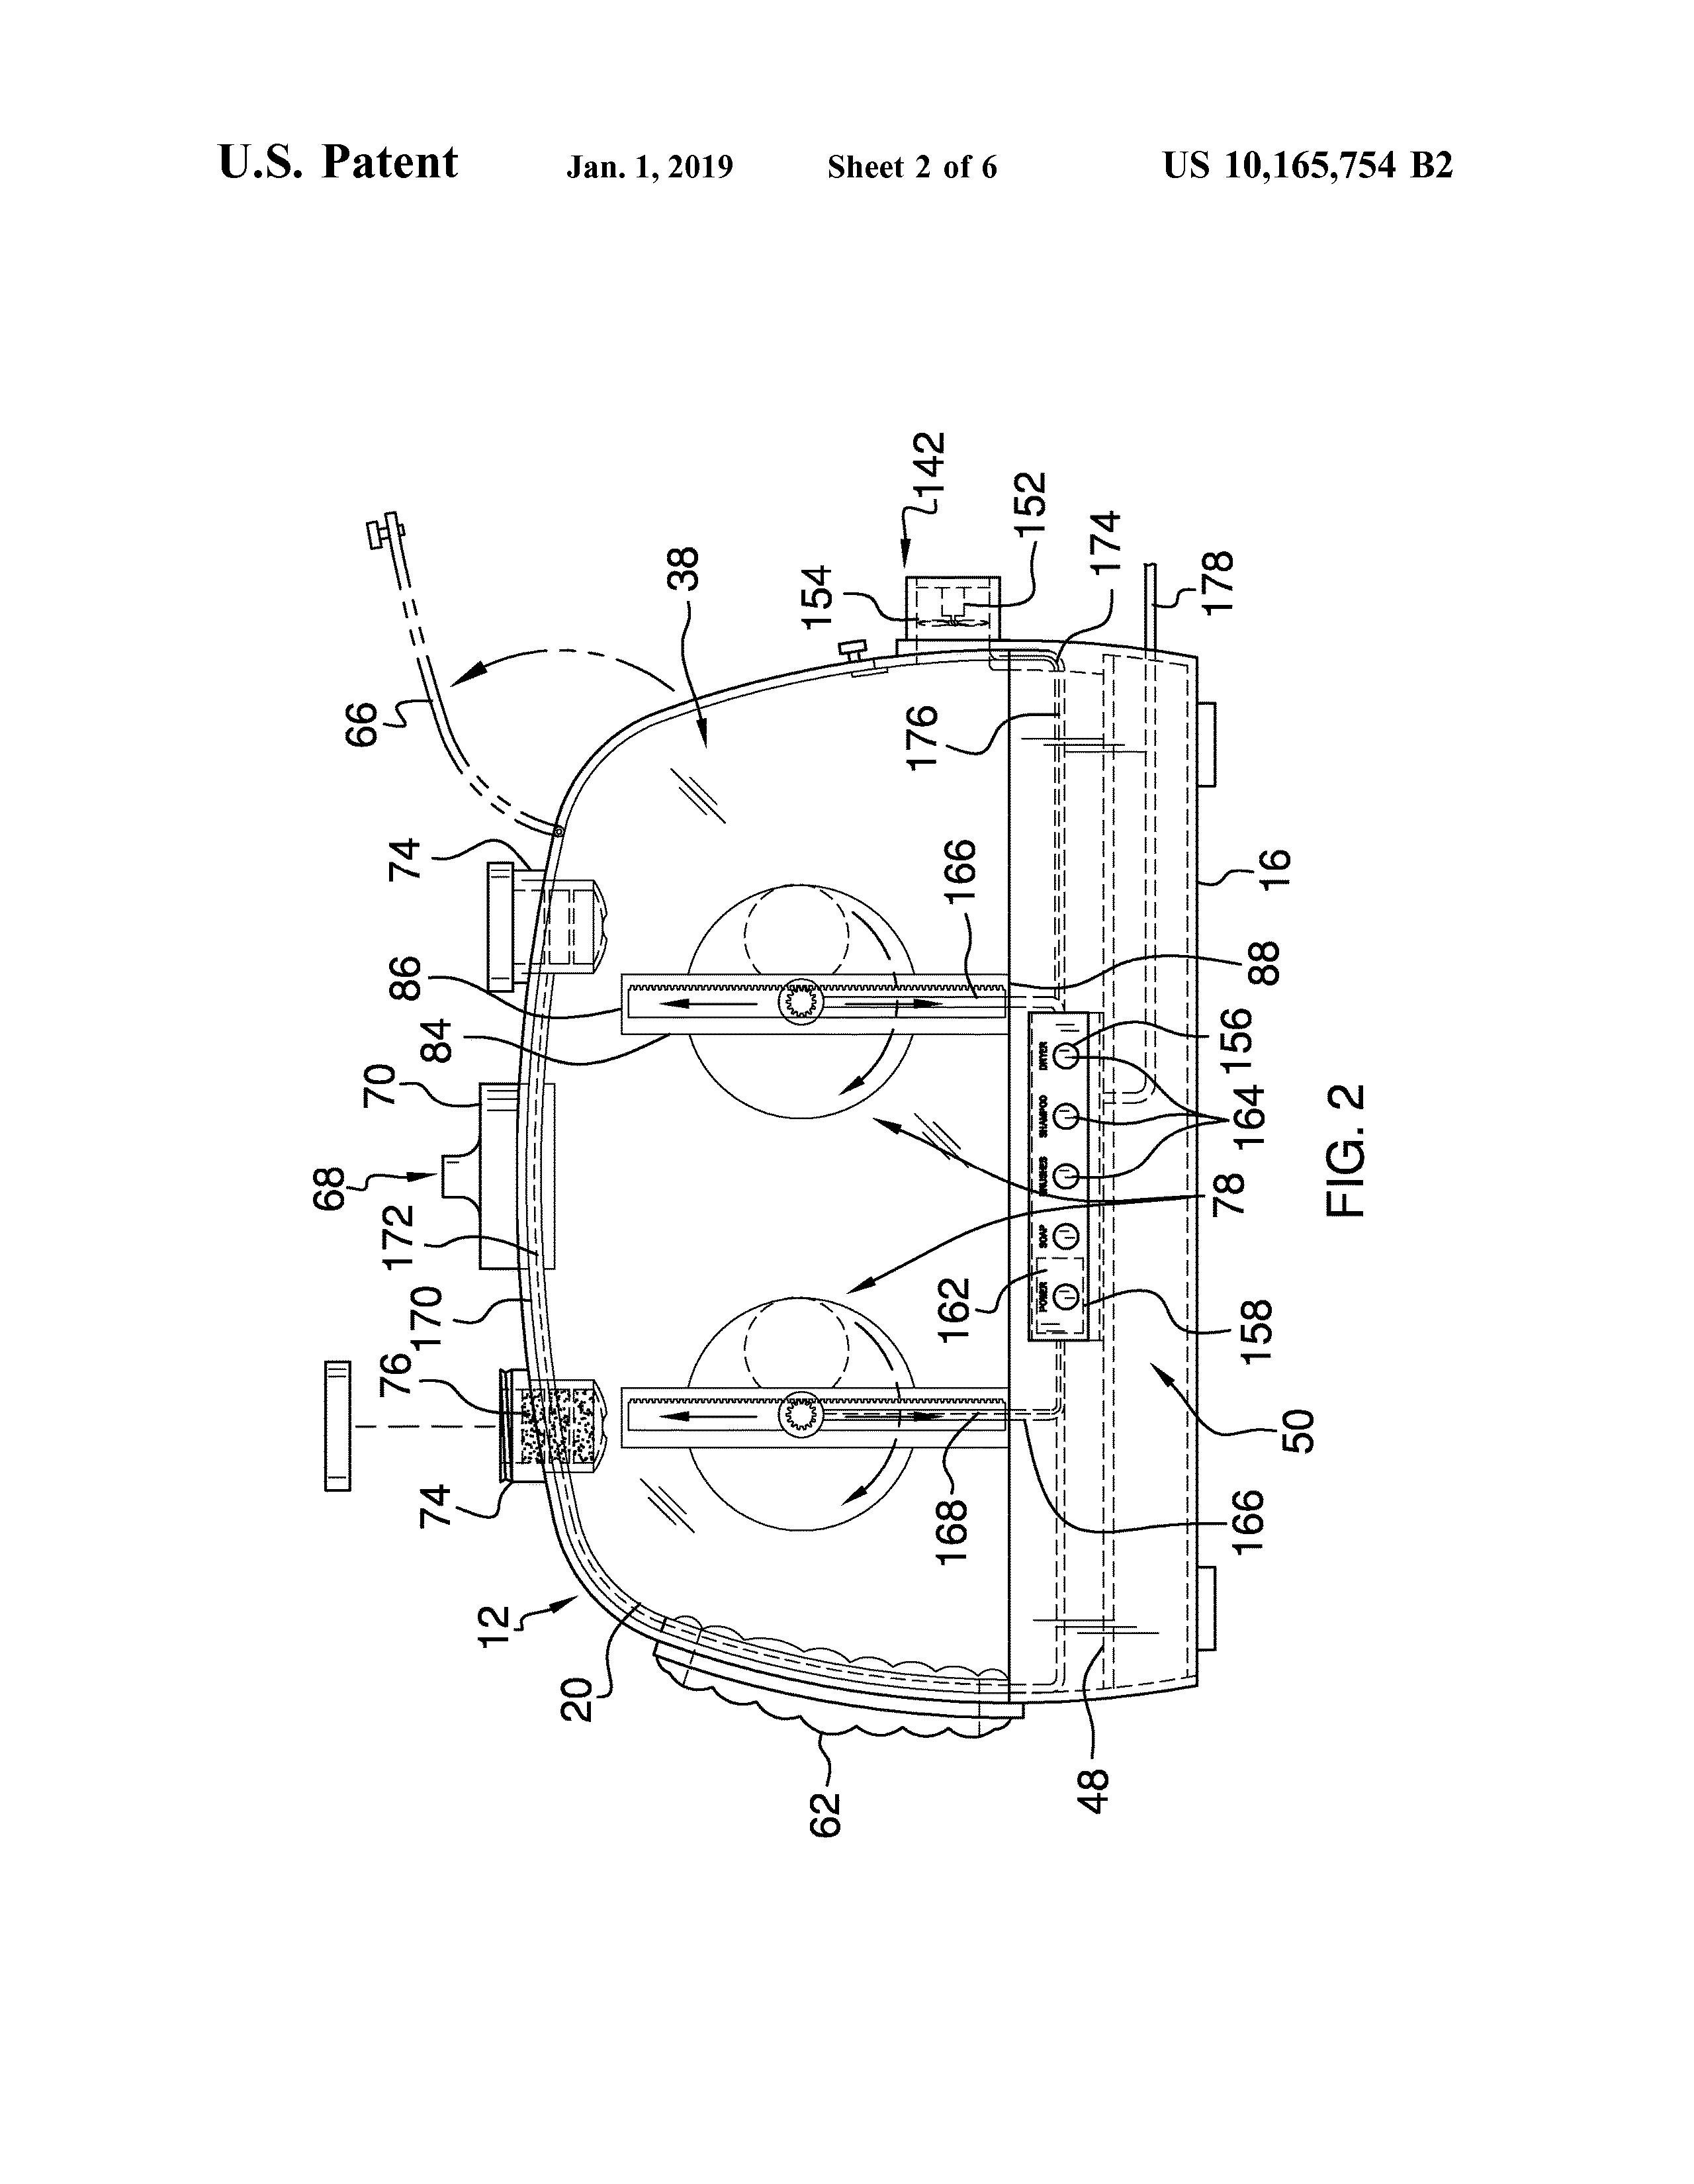patent image: (242, 394, 1408, 1908)
